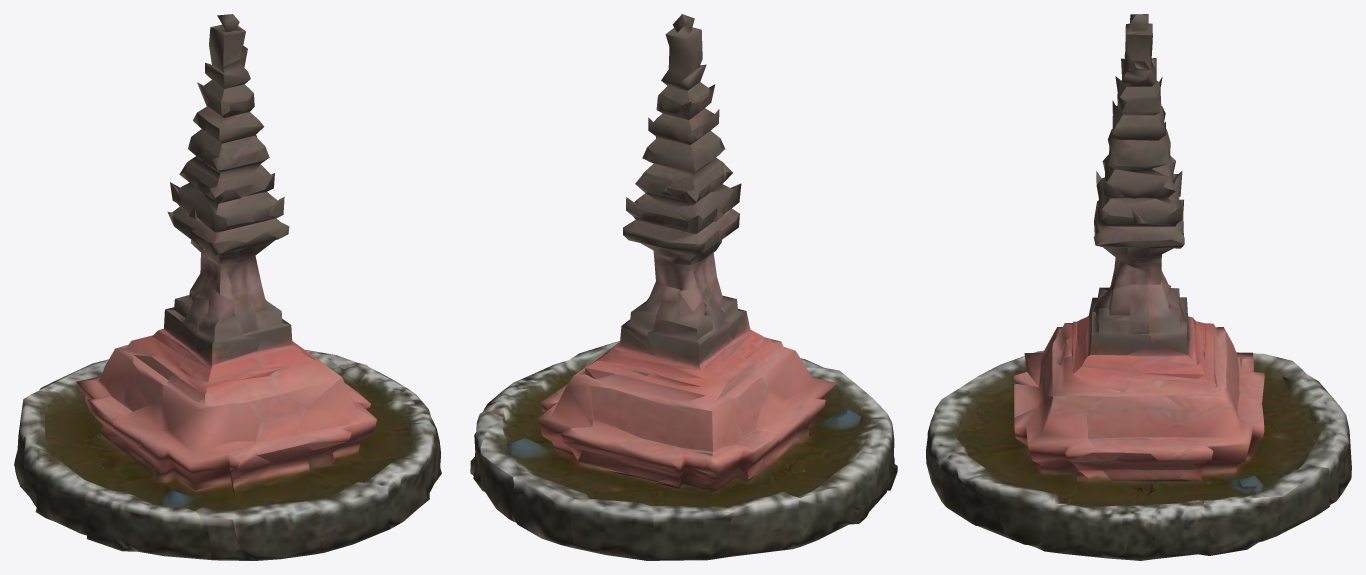
File: monumen_depan_bhagawan_lod2.glb
3 views of the same model, side by side, from view 1: azimuth 30°, elevation 25°; view 2: azimuth 150°, elevation 25°; view 3: azimuth 270°, elevation 25° (orthographic).
Visible parts, largest first — view 1: tripo_node_0bf6e70b-d618-4954-a90e-4120de933357; view 2: tripo_node_0bf6e70b-d618-4954-a90e-4120de933357; view 3: tripo_node_0bf6e70b-d618-4954-a90e-4120de933357.
Boxes of the visible parts, bbox=[...] form: tripo_node_0bf6e70b-d618-4954-a90e-4120de933357: bbox=[14, 14, 441, 560]; tripo_node_0bf6e70b-d618-4954-a90e-4120de933357: bbox=[470, 14, 897, 560]; tripo_node_0bf6e70b-d618-4954-a90e-4120de933357: bbox=[926, 14, 1351, 560].
Size of the model in its own units: 0.8381 by 1 by 0.84.
1 material, 1 textured.
